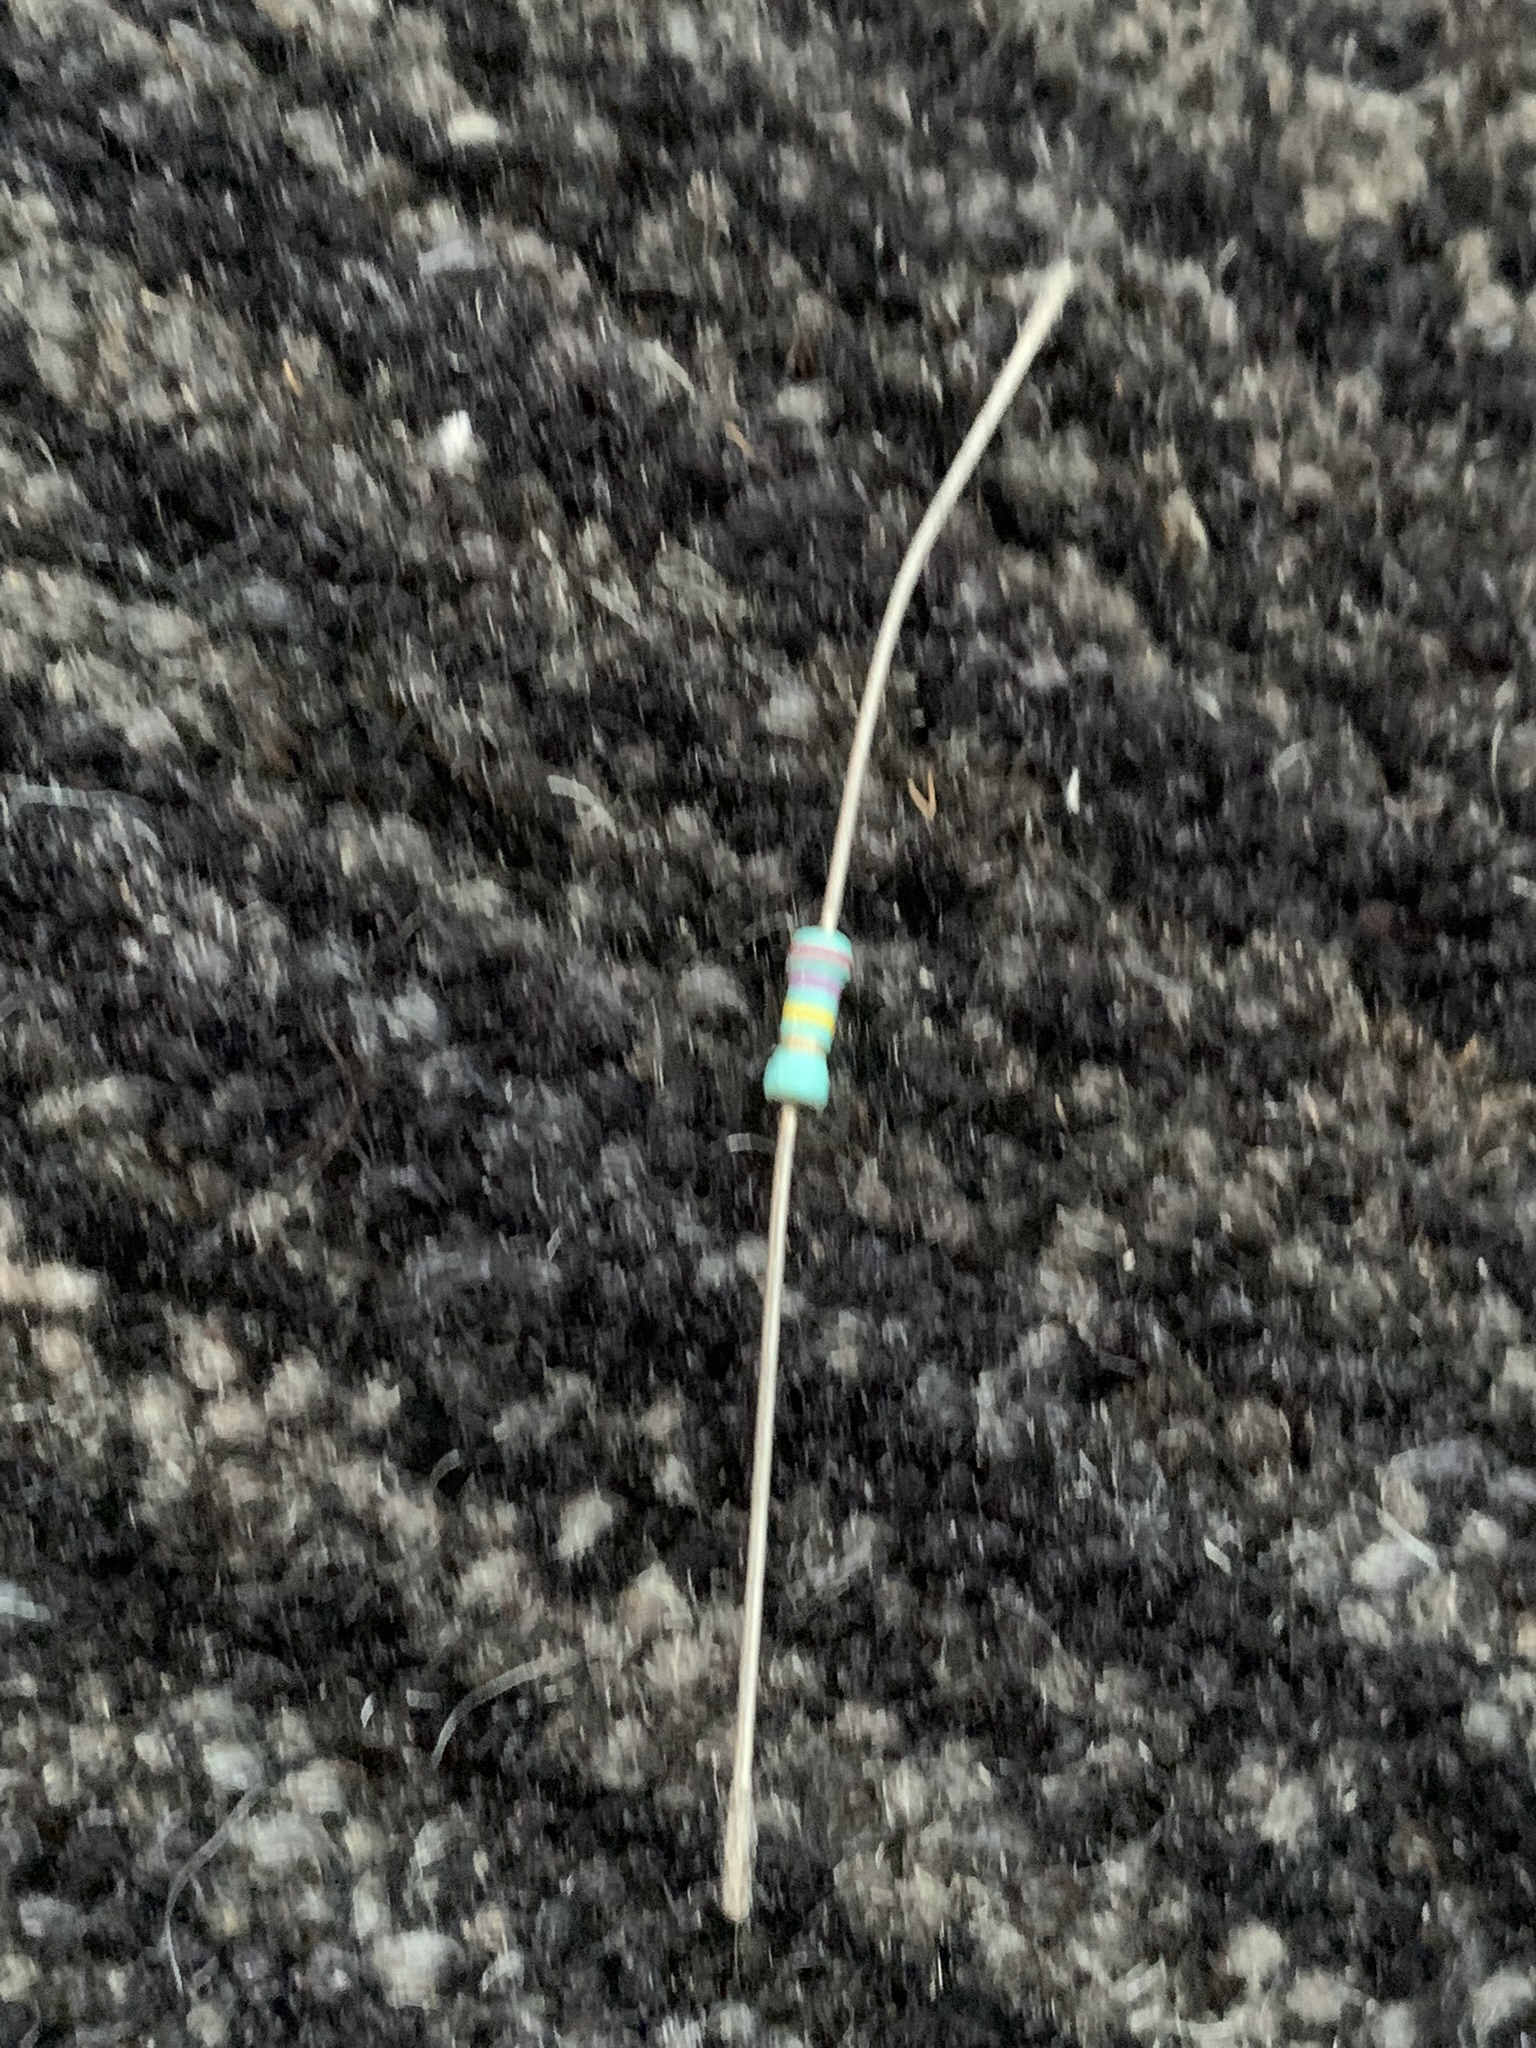resistor_thd: (765, 926, 852, 1111)
